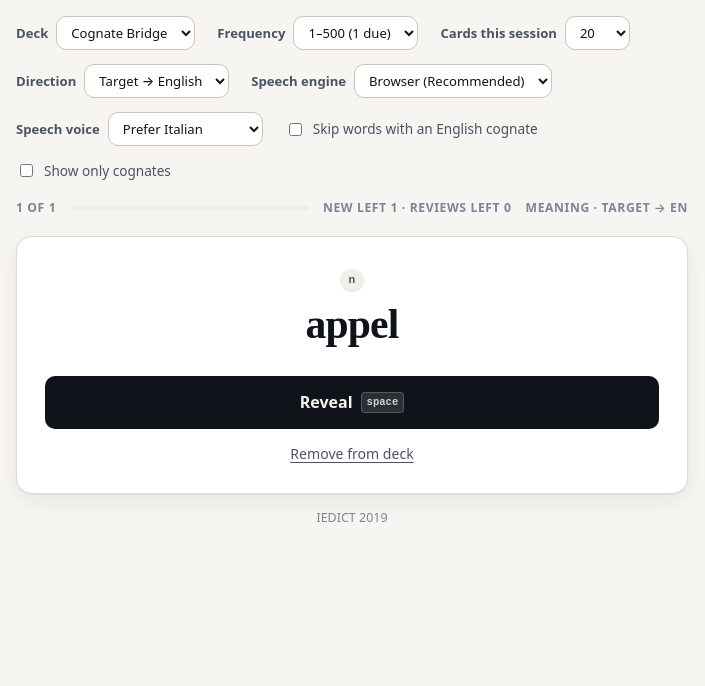
Test: StudyPage › can prompt with the target word and reveal English
Expected: the heading "appel" is shown, [306, 300, 398, 350]
Expected: the text "apple" is not shown
Click the button "Reveal space" at (352, 403), box [45, 376, 659, 429]
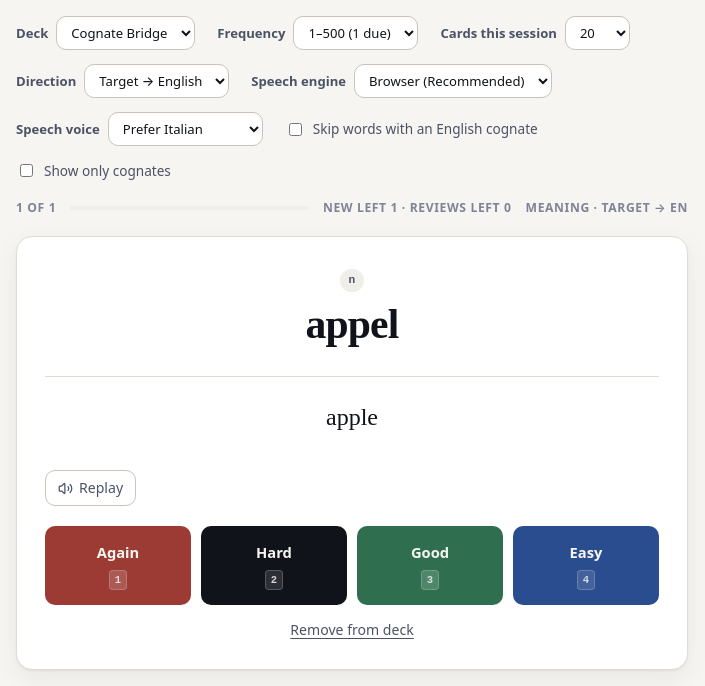
Result: the text "apple" is shown at [326, 404, 378, 430]
